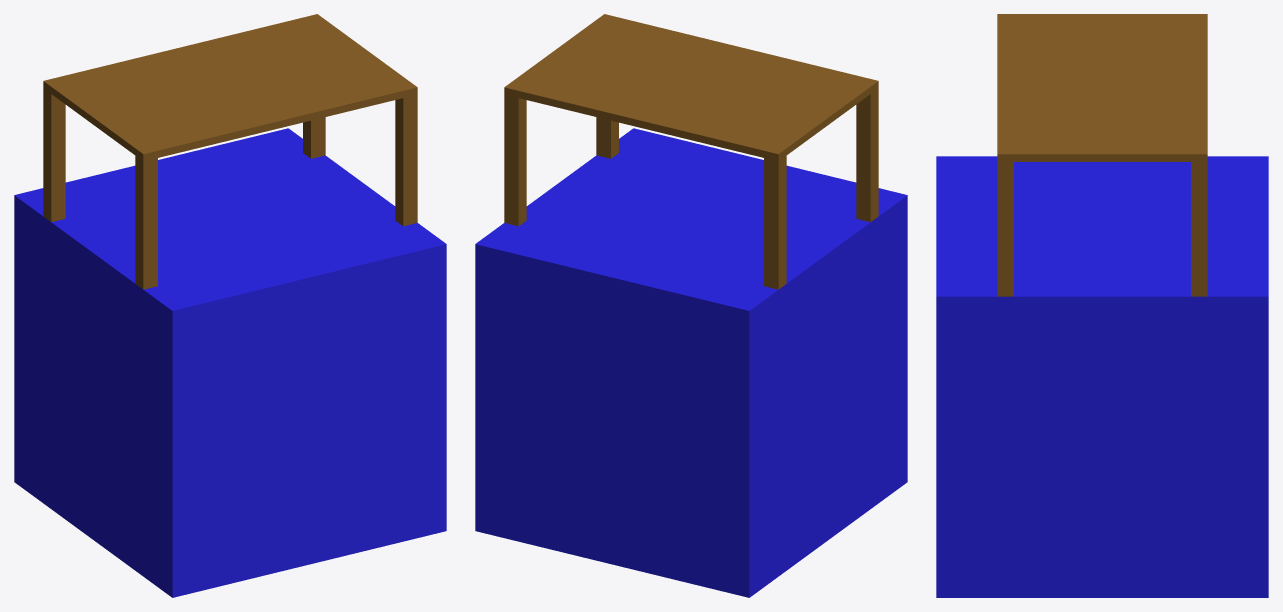
Rendered from Table.fbx.
3 renders of one model, left to right at view 1: azimuth 30°, elevation 25°; view 2: azimuth 150°, elevation 25°; view 3: azimuth 270°, elevation 25°, orthographic. The views are drawn at different scales.
Visible parts, largest first — view 1: Box253, connecttable_lowpoly; view 2: Box253, connecttable_lowpoly; view 3: Box253, connecttable_lowpoly.
Boxes of the visible parts, bbox=[...] form: Box253: bbox=[14, 128, 446, 597]; connecttable_lowpoly: bbox=[43, 14, 417, 289]; Box253: bbox=[475, 128, 907, 597]; connecttable_lowpoly: bbox=[504, 14, 878, 289]; Box253: bbox=[936, 156, 1268, 597]; connecttable_lowpoly: bbox=[997, 14, 1207, 296].
Size of the model in its own units: 39.5 by 58.15 by 39.5.
